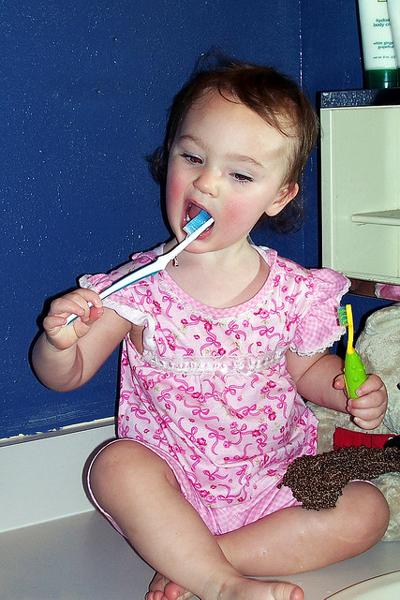person: (32, 61, 391, 600)
